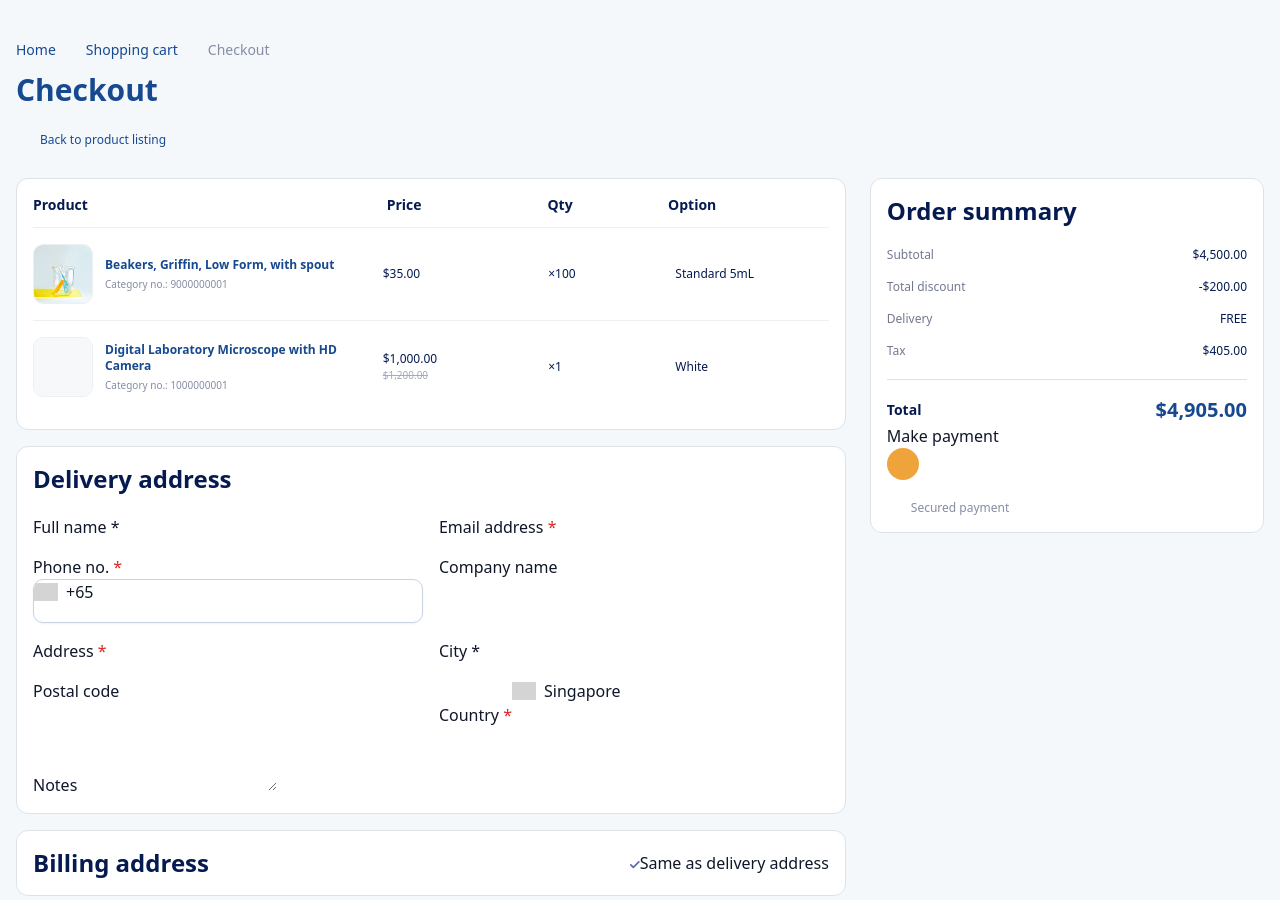
Test: Checkout boundaries from the QA catalogue › CHK-007 validates fullName before preparing payment
Expected: the button "Make payment" is shown, 887,424 -> 999,480
Step 1. Type "QA Tester" into the field labelled "Full name *" → (235, 527), box 120,515 -> 350,539
Step 2. Type "qa@example.test" into the field labelled "Email address *" → (672, 527), box 556,515 -> 788,539
Step 3. Type "88009900" into the field labelled "Phone no. *" → (209, 601), box 94,580 -> 324,622
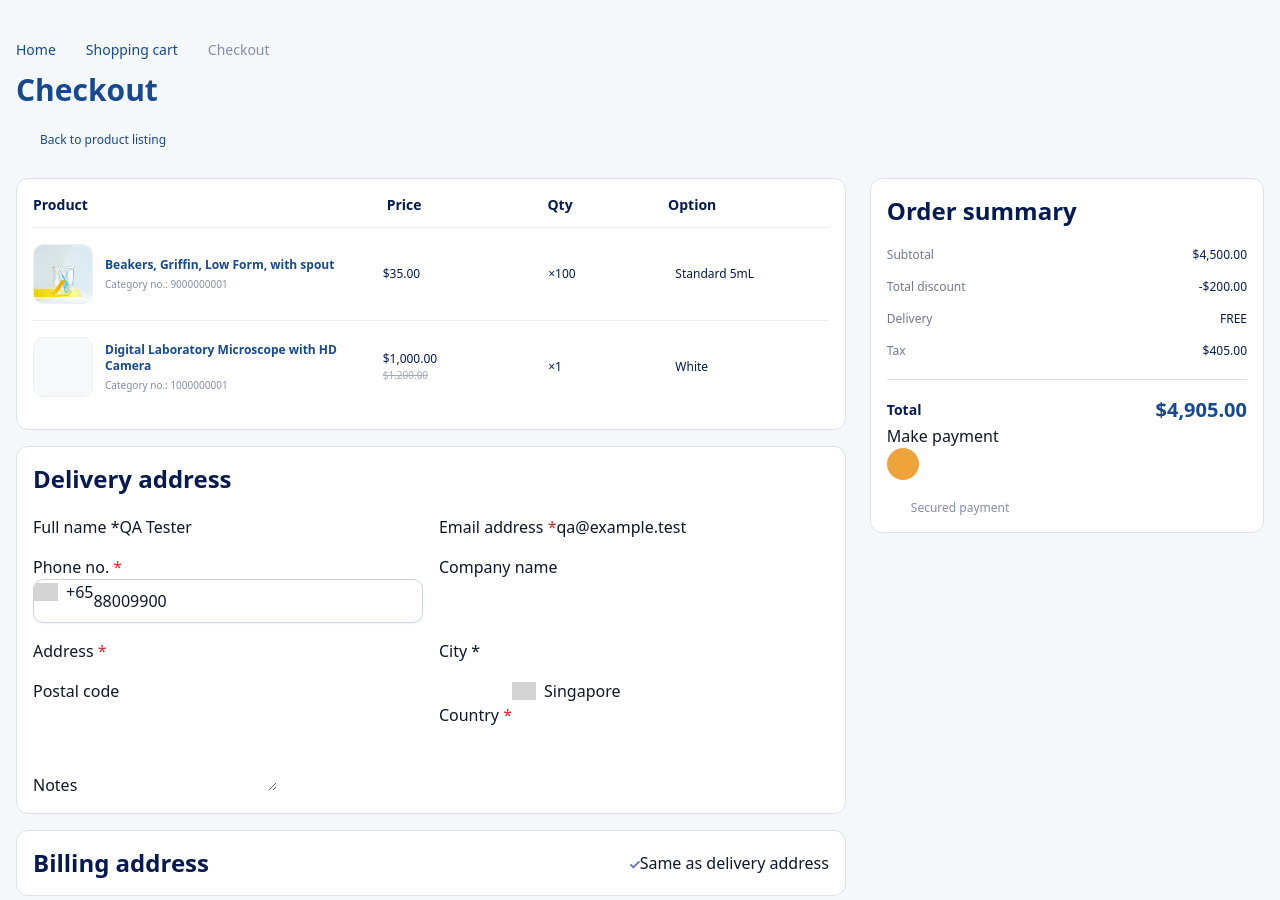
Step 4. Type "123 Test Street" into the field labelled "Address *" → (222, 651), box 106,639 -> 338,663
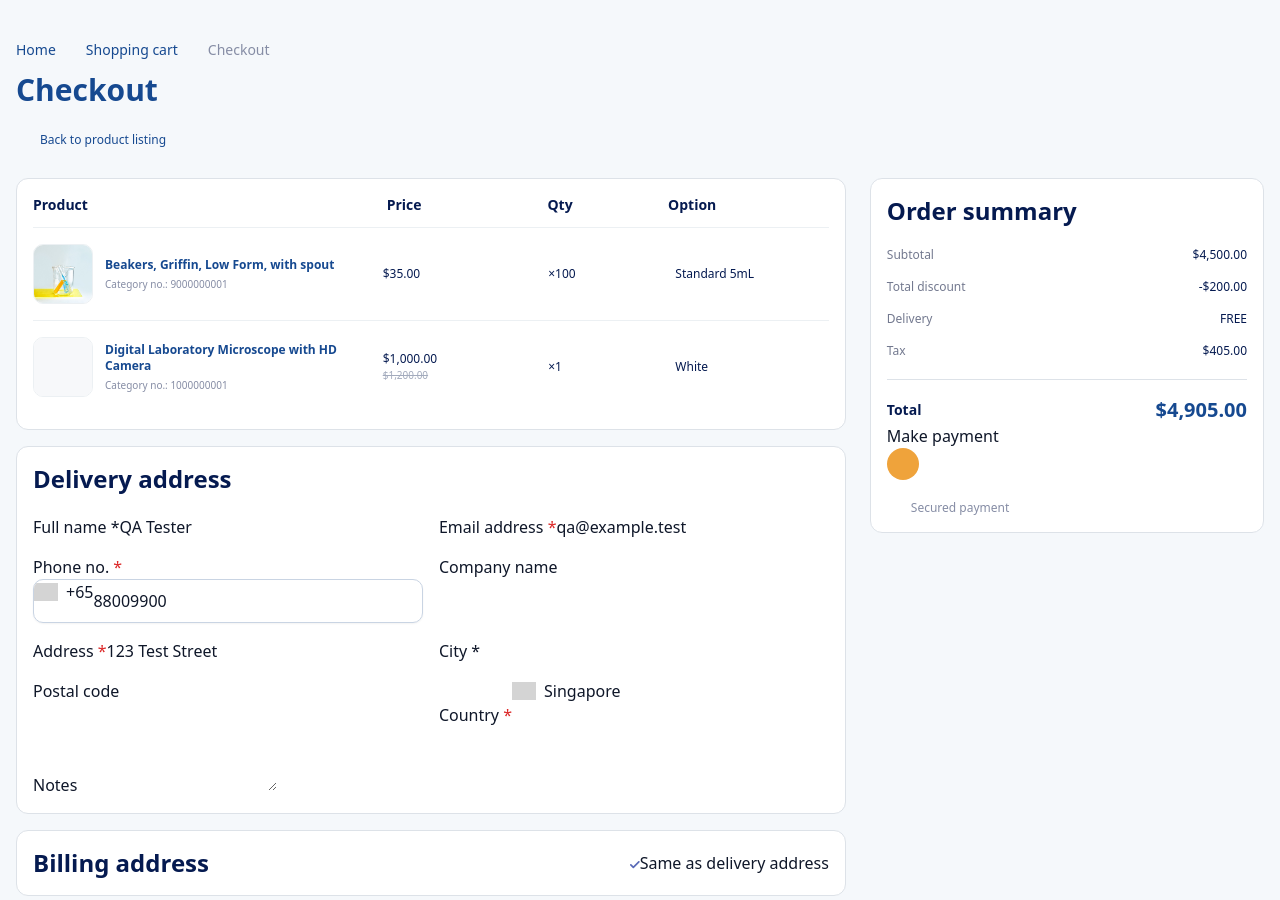
Step 5. Type "Singapore" into the field labelled "City *" → (596, 651), box 480,639 -> 711,663
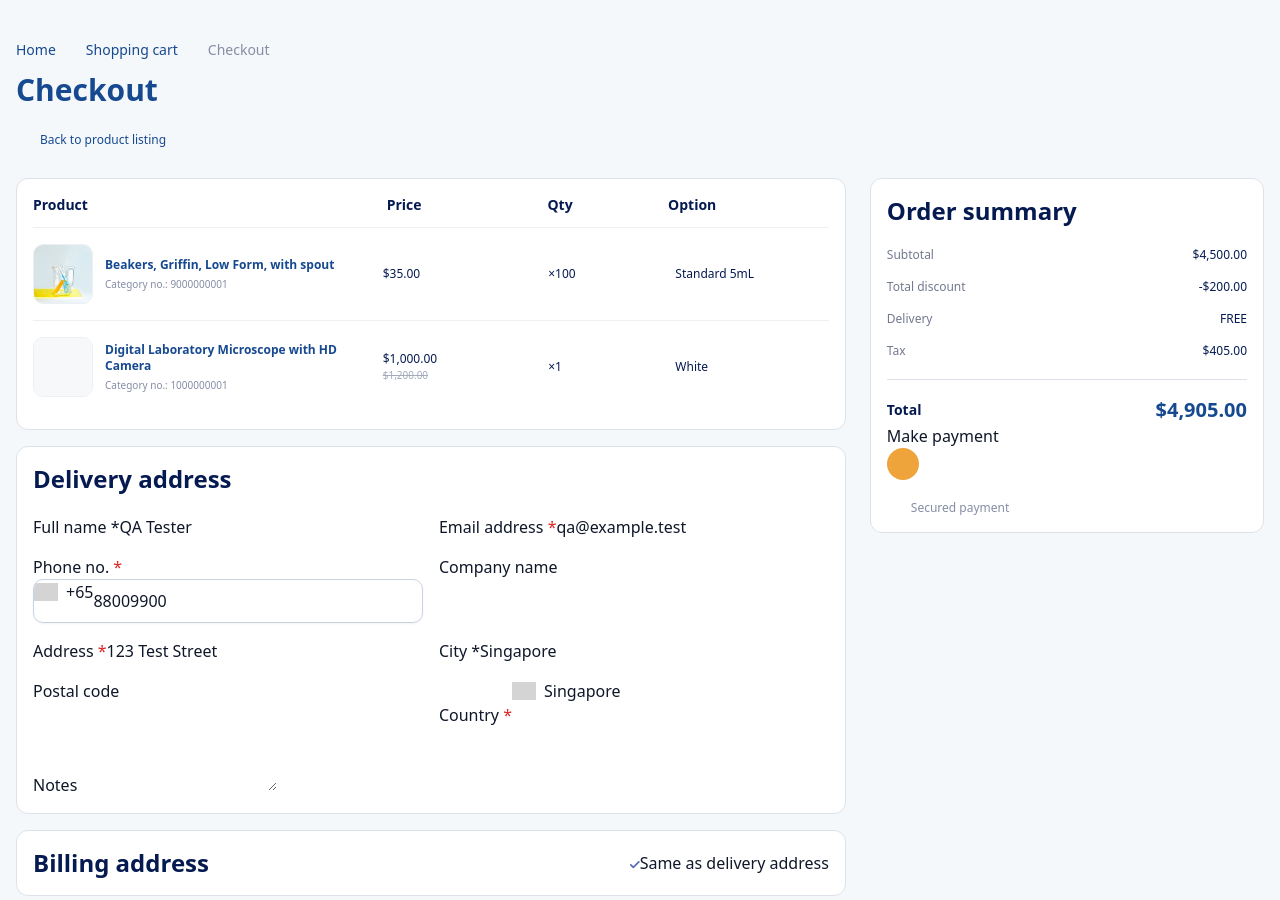
Step 6. Type "012345" into the field labelled "Postal code" → (235, 691), box 119,679 -> 350,703
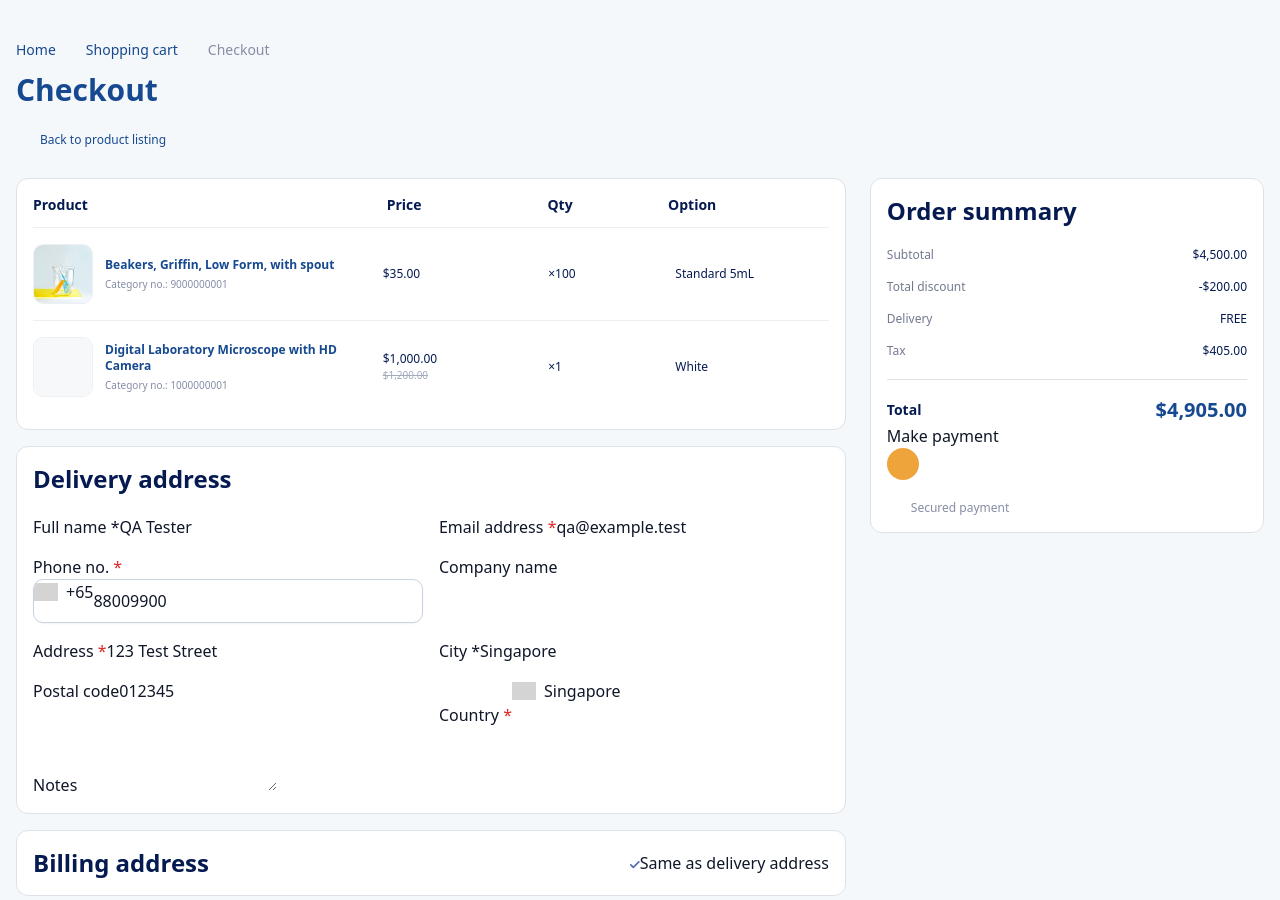
Step 7. Replace the text in the field labelled "Full name *" with "AA" → (235, 527), box 120,515 -> 350,539
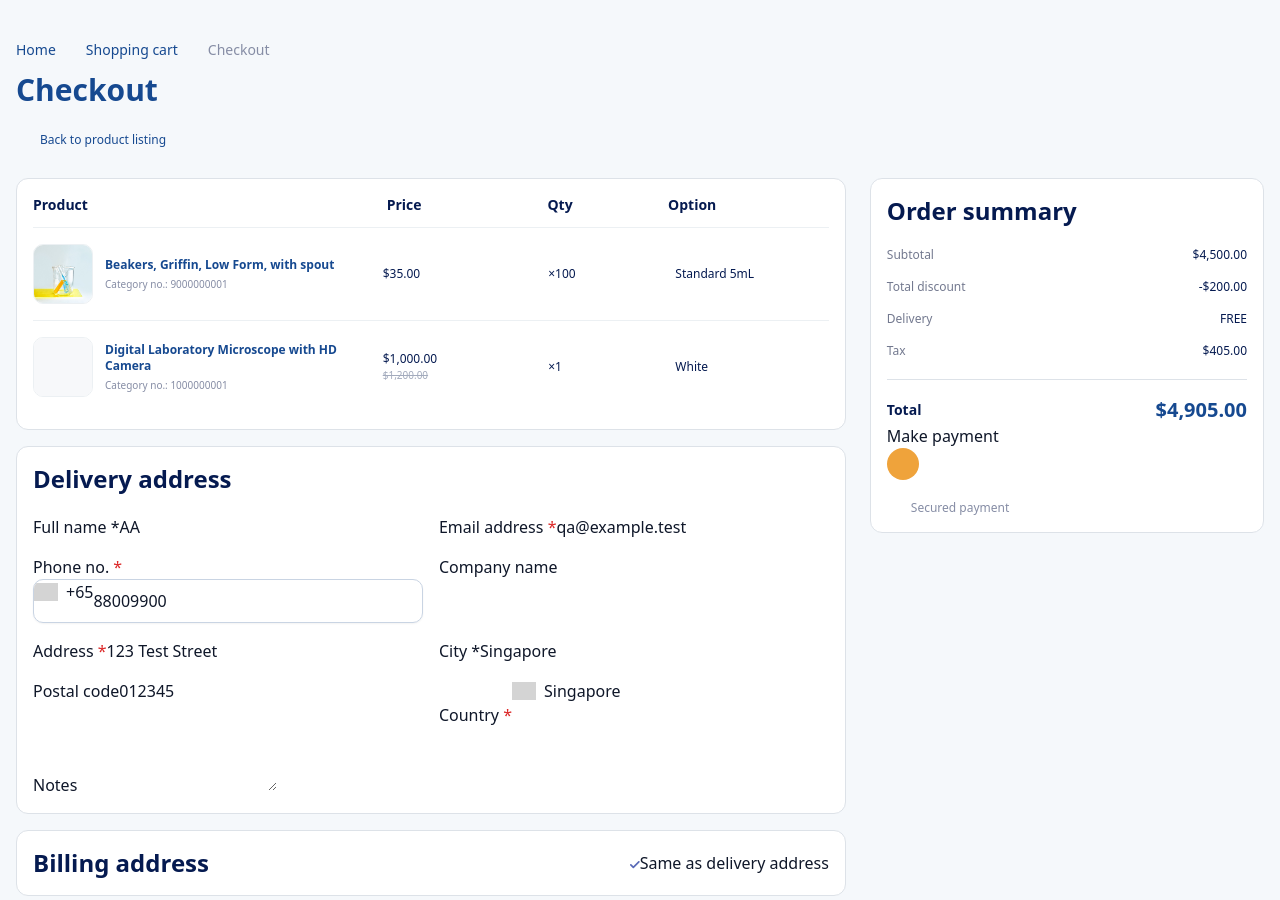
Step 8. Click the button "Make payment" → (943, 452), box 887,424 -> 999,480
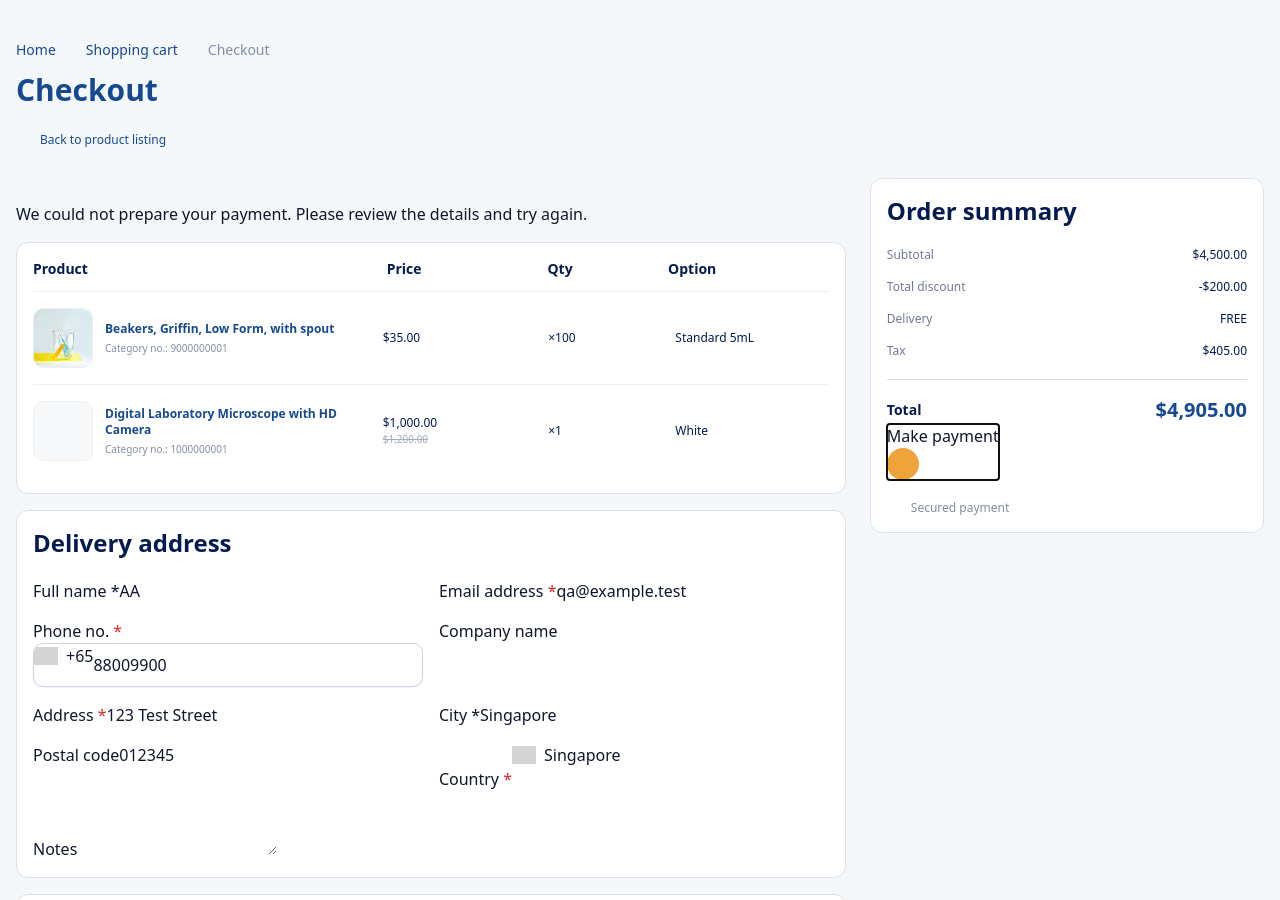
Now the message shows "We could not prepare your payment.", box 16,203 -> 587,225
